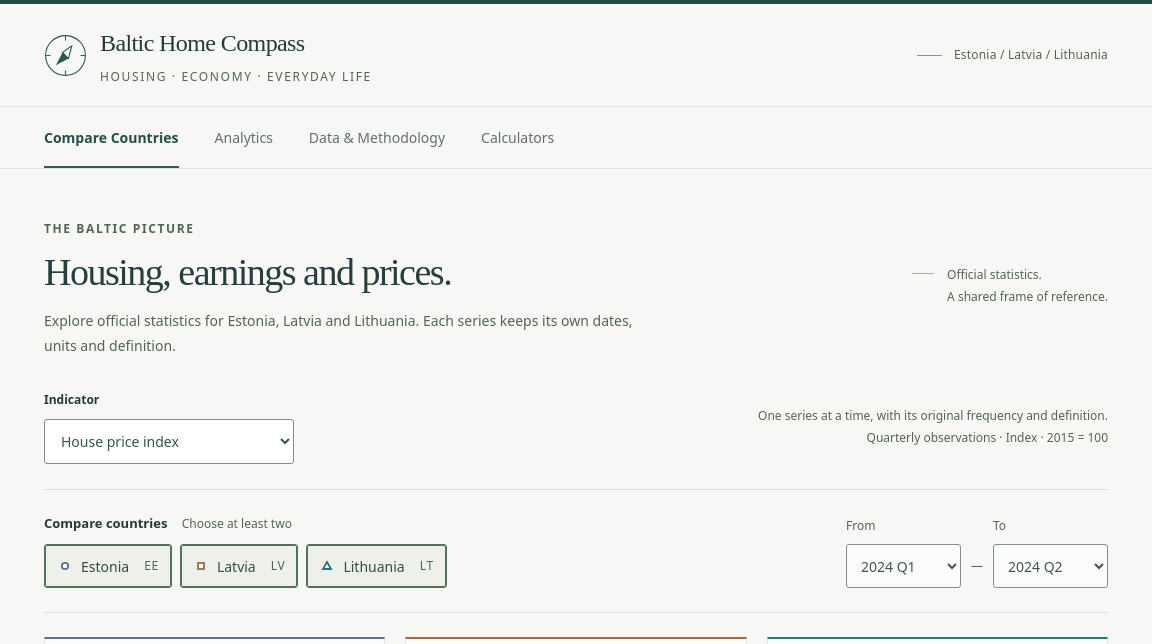
Test: comparison controls › shows metadata and completeness for the chosen indicator only
Select "Annual net earnings" in the dropdown labelled "Indicator" at coordinates (169, 441), box [44,419,294,464]
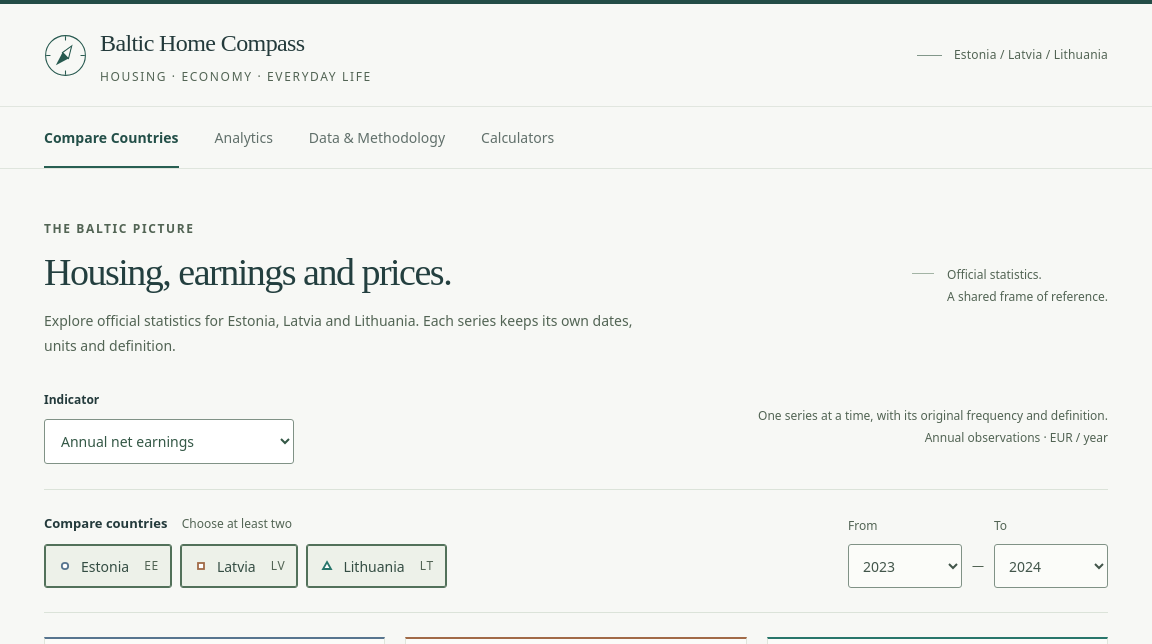
Click the link "Data & Methodology" at coordinates (377, 138), box [309,128,445,147]
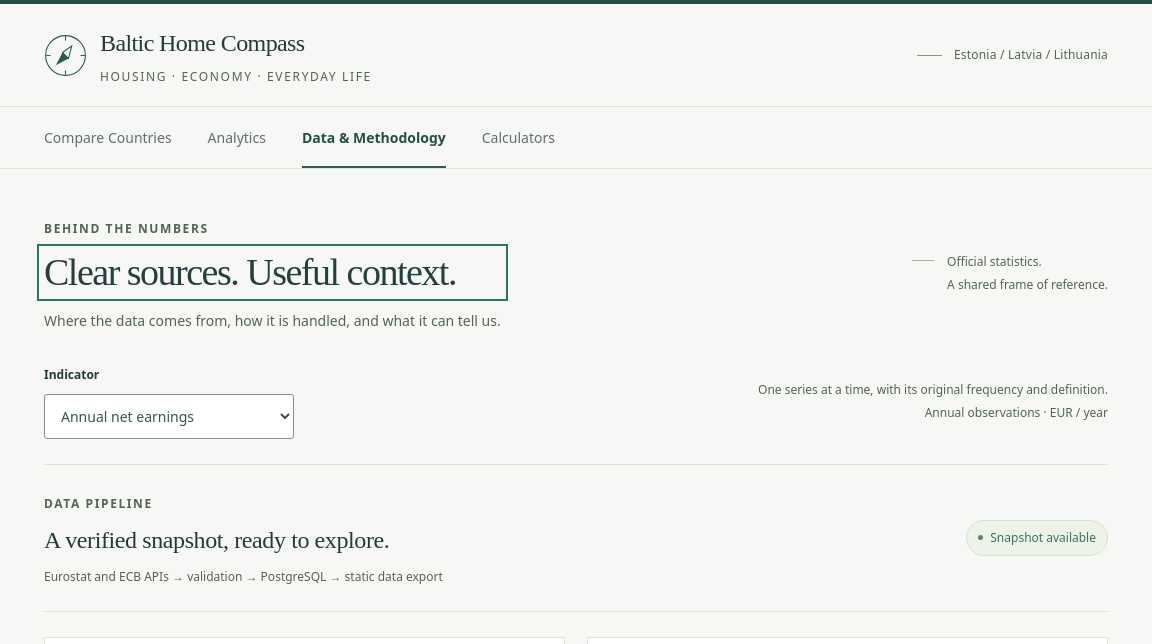
Select "Annual inflation" in the dropdown labelled "Indicator" at coordinates (169, 416), box [44,394,294,439]
(page scrolled)
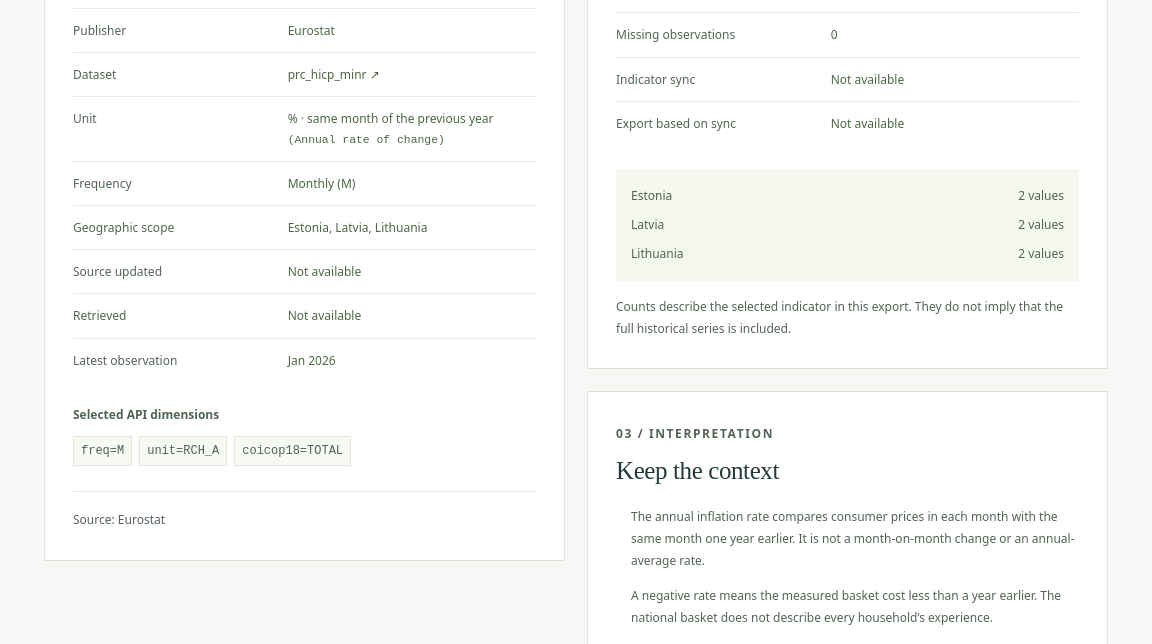
Expected: the text "unit=RCH_A" is shown, [139,436,227,466]
Expected: the text "Jan 2026" is shown, [288,352,336,369]
